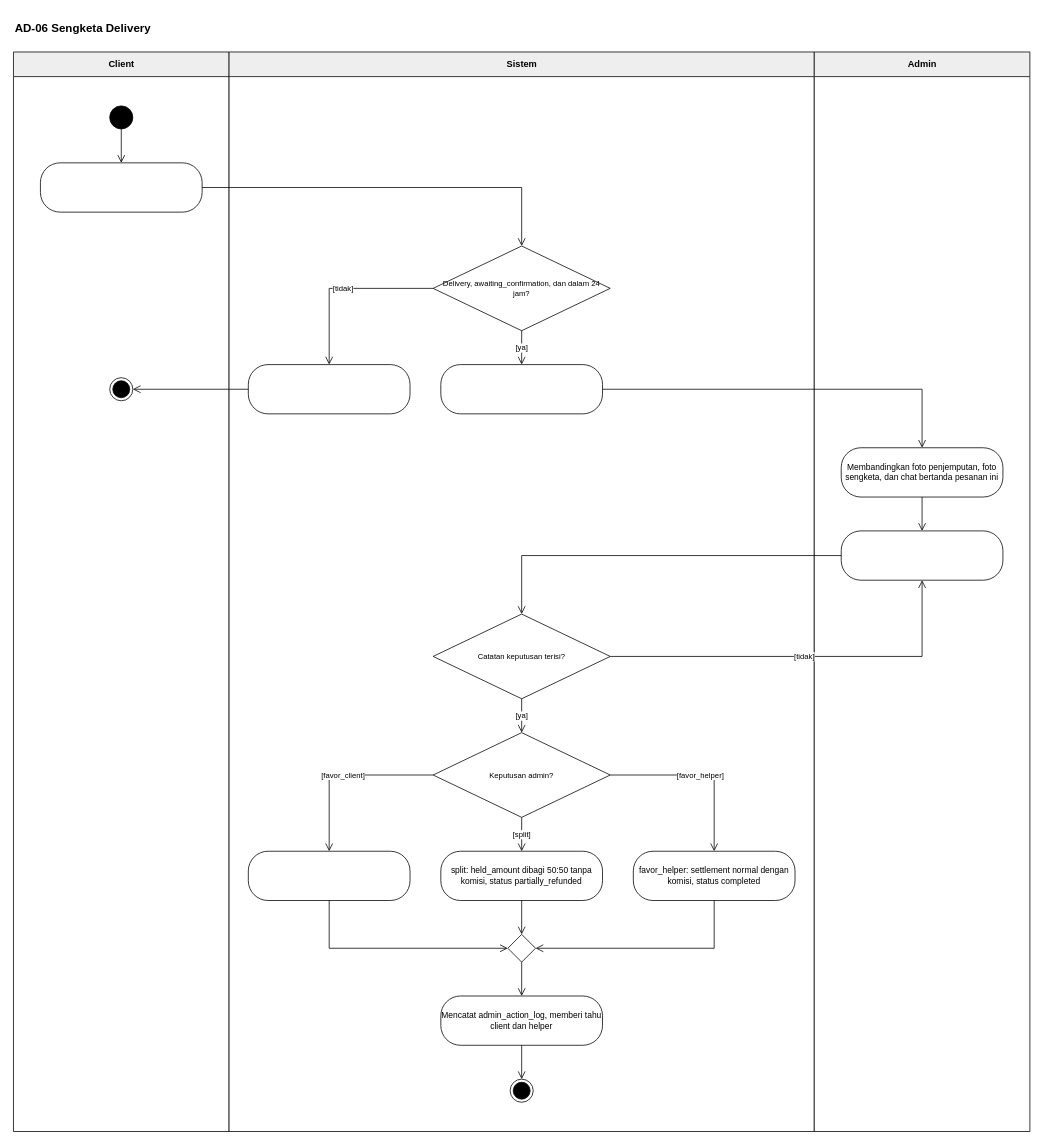
Some shapes in this 1043 by 1145 pixel diagram are drawn without their labels. The shapes that lost their labels are listed below. From the top down, each one's centre as x and y in pixels, then its label:
(x=121, y=187): Mengajukan sengketa dengan alasan dan foto bukti
(x=329, y=389): Menolak (DISPUTE_NOT_ELIGIBLE atau DISPUTE_WINDOW_CLOSED)
(x=521, y=389): Status disputed, dana tetap tertahan, memberi tahu admin dan helper
(x=921, y=555): Memilih keputusan dan mengisi catatan
(x=329, y=875): favor_client: seluruh held_amount kembali ke client, status refunded
